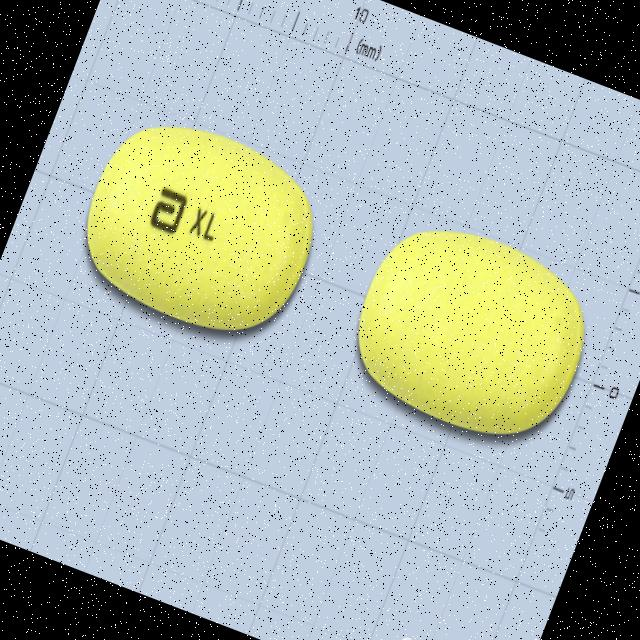Klaricid-Xl: (61, 99, 340, 357)
